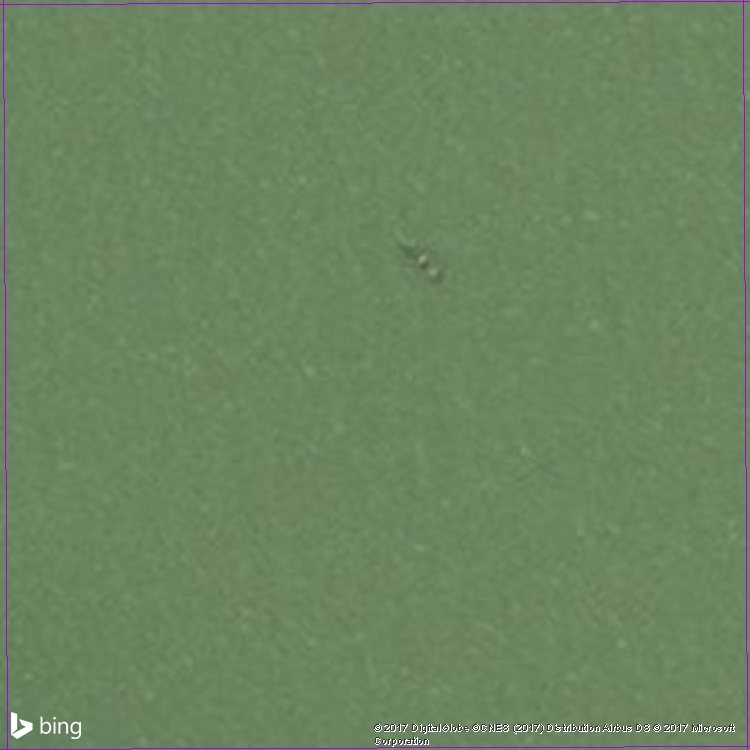boat: (396, 229, 448, 287)
